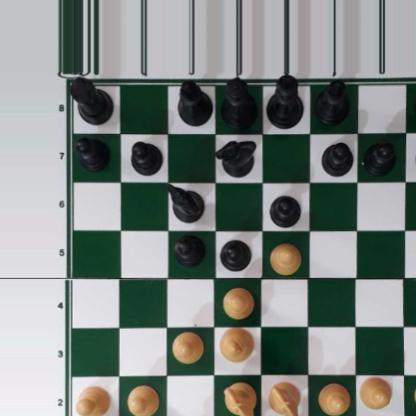black-bishop: (313, 77, 350, 126), (177, 79, 212, 124)
black-king: (268, 72, 304, 130)
black-knight: (166, 183, 205, 221), (217, 138, 254, 177)
black-pawn: (75, 136, 110, 172), (268, 192, 302, 227), (131, 138, 163, 175), (219, 236, 252, 271), (173, 234, 208, 267), (364, 140, 396, 175), (321, 142, 353, 176), (415, 138, 416, 176)
black-queen: (220, 76, 258, 127)
black-rook: (68, 74, 115, 126), (412, 77, 416, 123)
white-bishop: (218, 327, 254, 362)
white-knight: (223, 381, 257, 416), (267, 381, 301, 416)
white-pawn: (73, 384, 113, 416), (359, 375, 392, 410), (126, 384, 160, 416), (268, 241, 302, 273), (221, 285, 253, 319), (171, 331, 204, 363), (318, 383, 350, 415), (412, 379, 416, 413)
